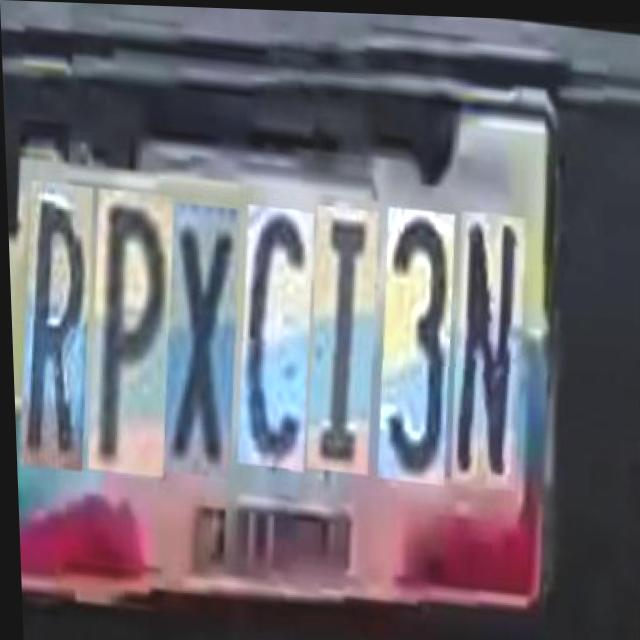3: (376, 197, 464, 474)
c: (235, 198, 323, 464)
i: (303, 196, 386, 465)
n: (447, 198, 535, 477)
p: (84, 186, 185, 475)
r: (16, 180, 103, 470)
x: (160, 197, 250, 475)
